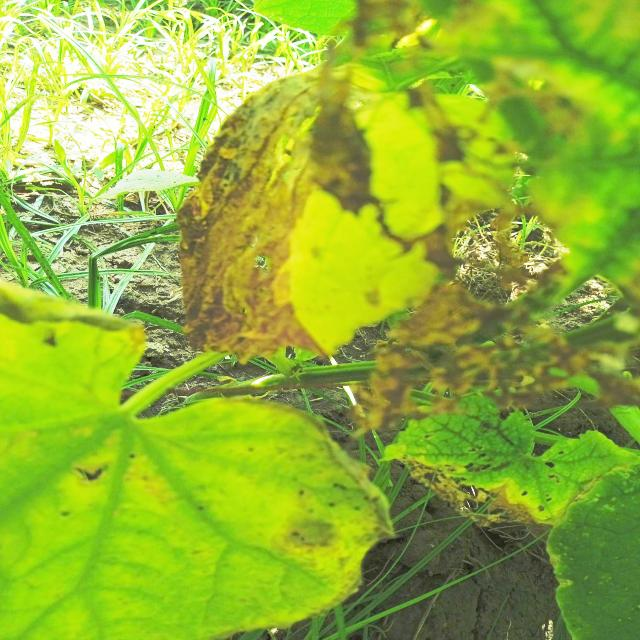Gummy-Stem-Blight: (174, 58, 387, 366)
